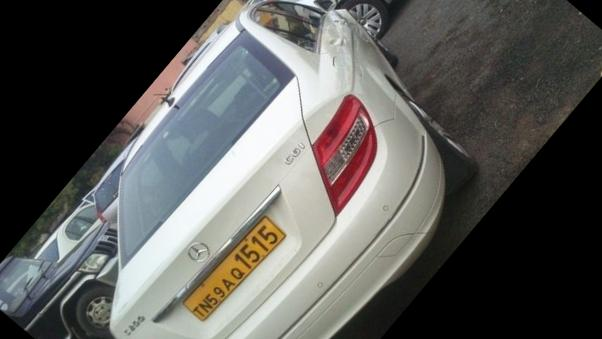plate: (163, 193, 299, 339)
